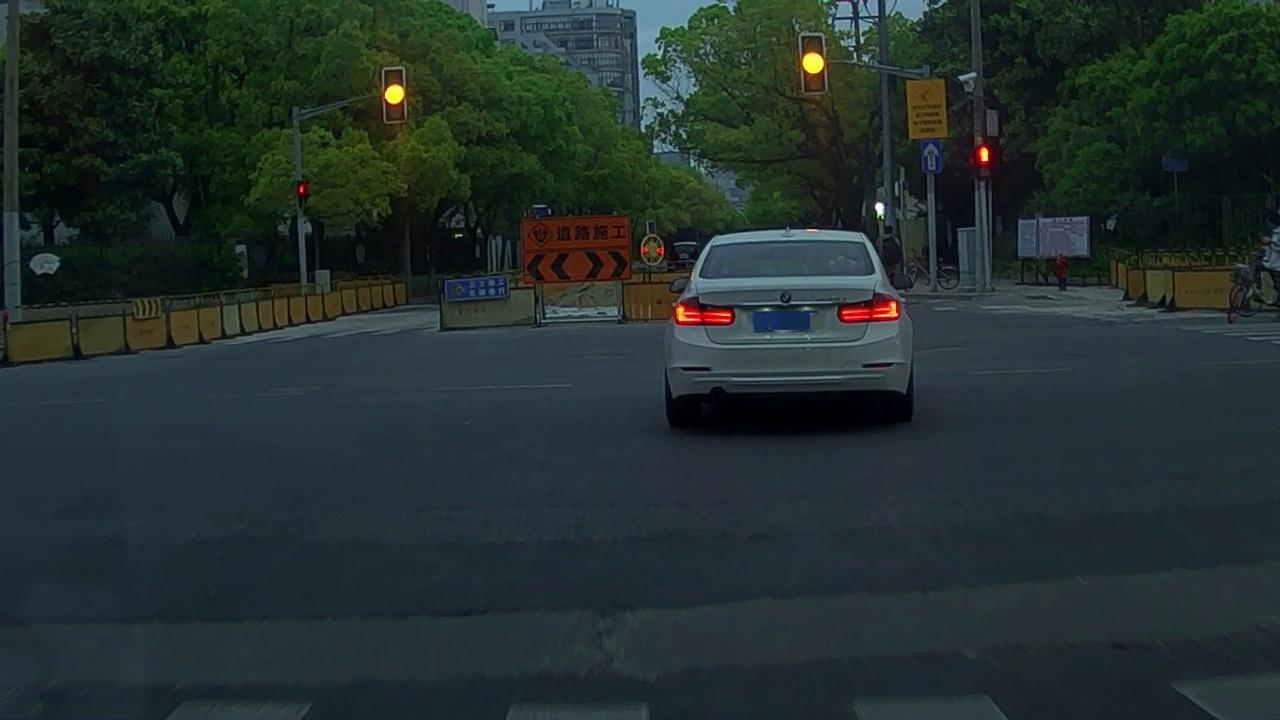traffic_light: (802, 31, 828, 95), (383, 66, 407, 121)
